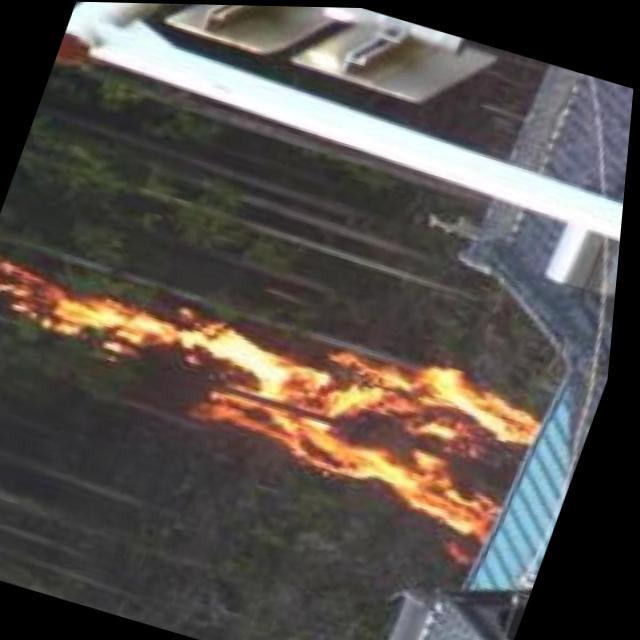fire: (0, 220, 574, 544)
